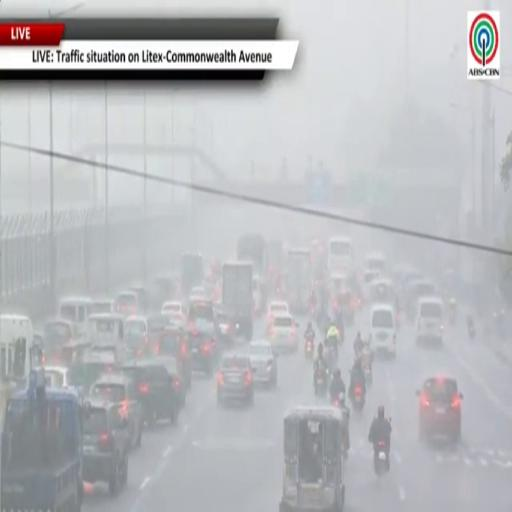car: (83, 398, 130, 495), (120, 358, 180, 426), (90, 374, 143, 447), (417, 376, 463, 444), (158, 327, 191, 390), (216, 353, 254, 406), (68, 354, 115, 392), (186, 322, 217, 376), (158, 356, 187, 407), (370, 303, 396, 356), (248, 341, 277, 388), (417, 297, 444, 345), (268, 314, 299, 354), (215, 311, 236, 346), (267, 300, 289, 328), (161, 300, 185, 321)
jeepney: (280, 407, 345, 511)
motorcycle: (332, 393, 350, 457), (375, 441, 389, 476), (314, 367, 329, 396), (351, 384, 365, 411), (325, 346, 338, 373), (305, 336, 314, 360), (364, 362, 372, 386), (449, 304, 457, 326), (468, 323, 476, 340)
truck: (0, 368, 83, 511), (222, 262, 253, 340), (237, 234, 267, 309), (286, 248, 312, 313), (237, 234, 266, 276), (181, 253, 204, 297)
